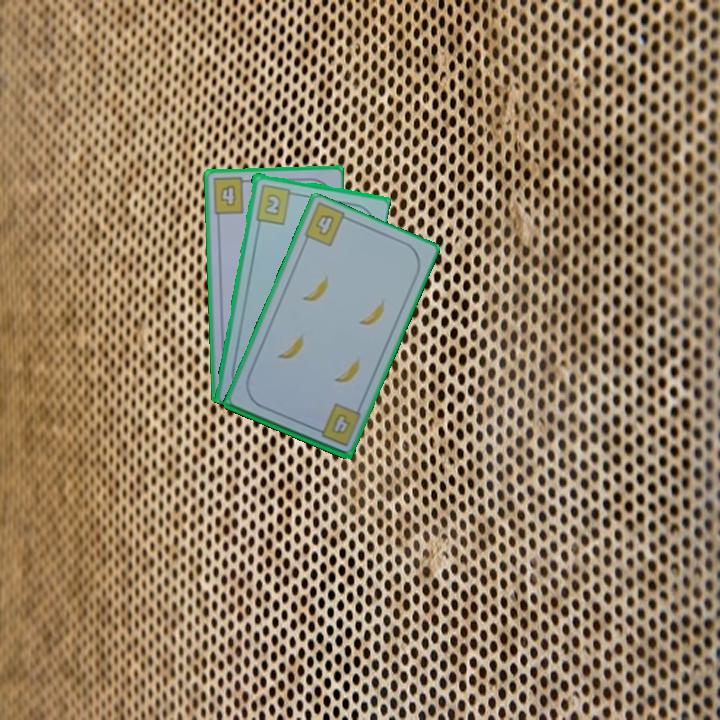2b: (252, 181, 299, 227)
4b: (310, 400, 361, 449), (209, 174, 253, 217), (312, 210, 337, 239)
